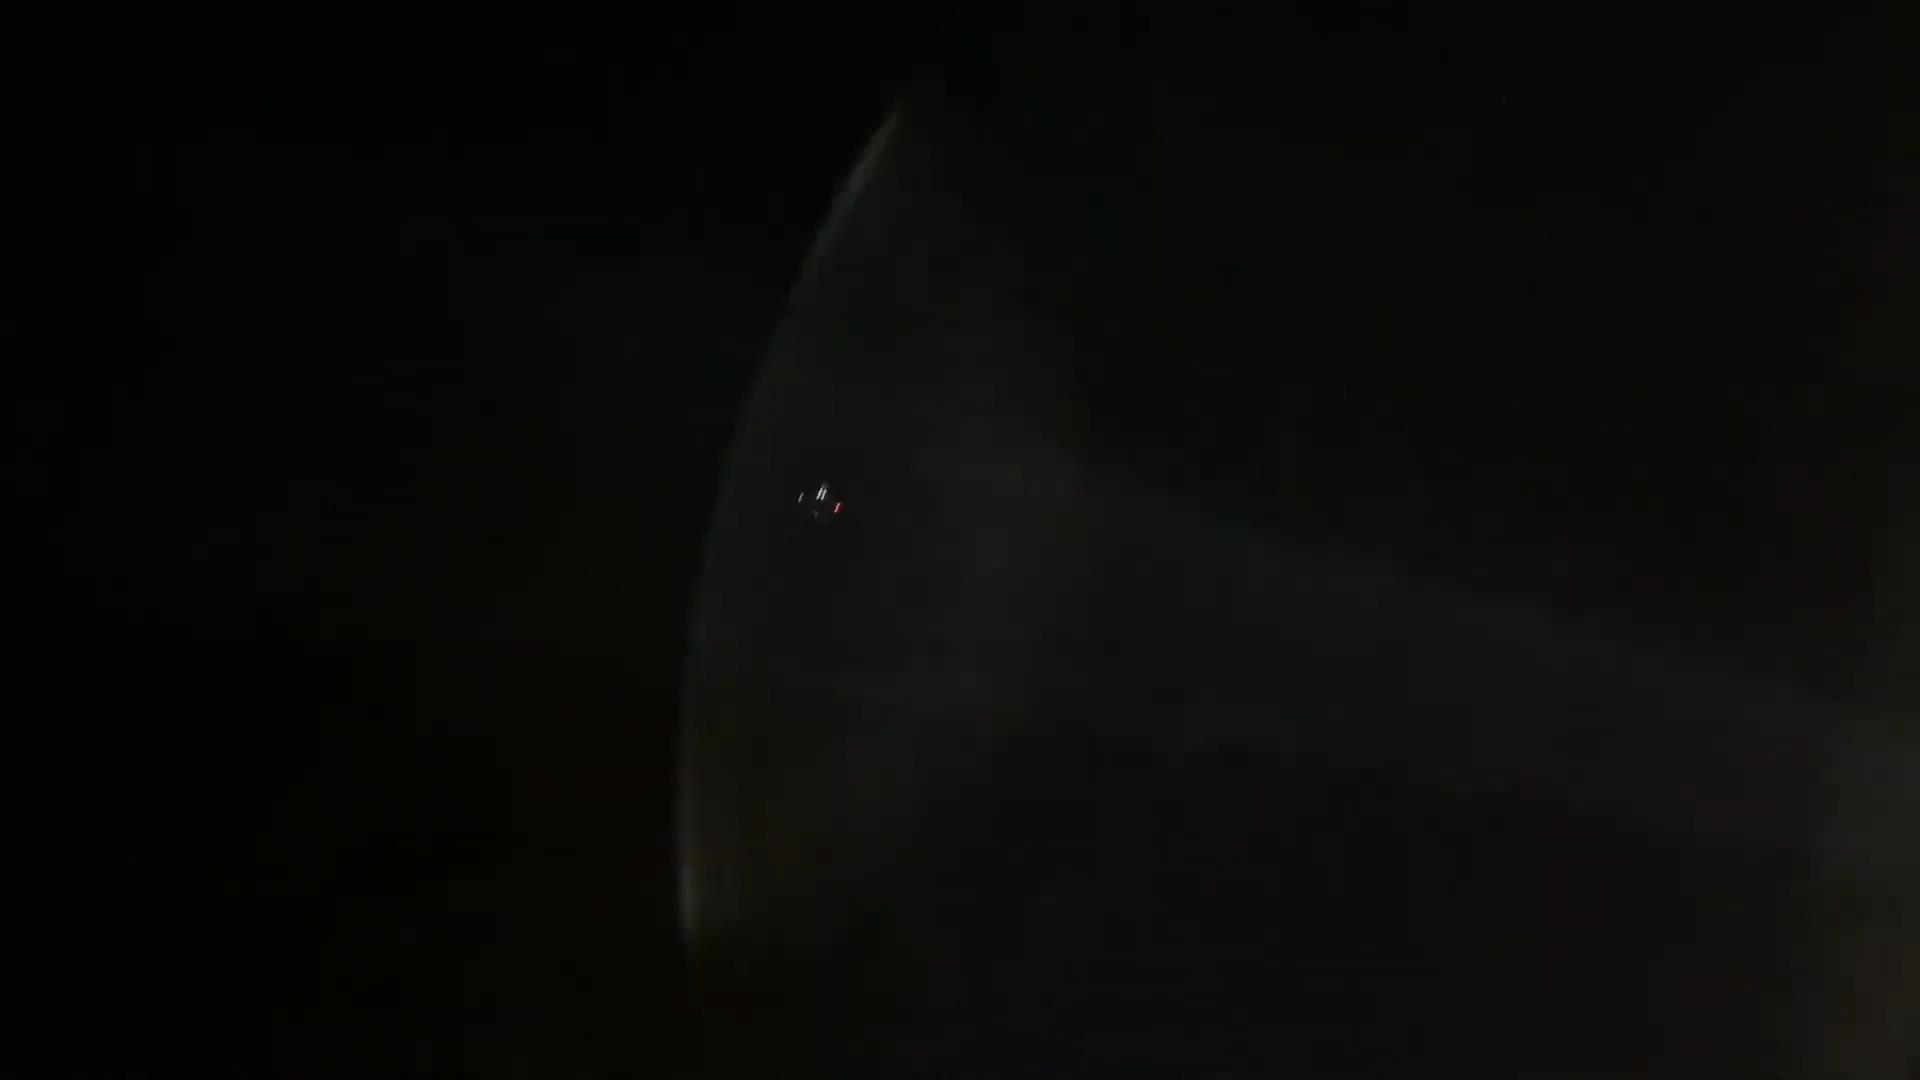Plane: (790, 483, 848, 529)
